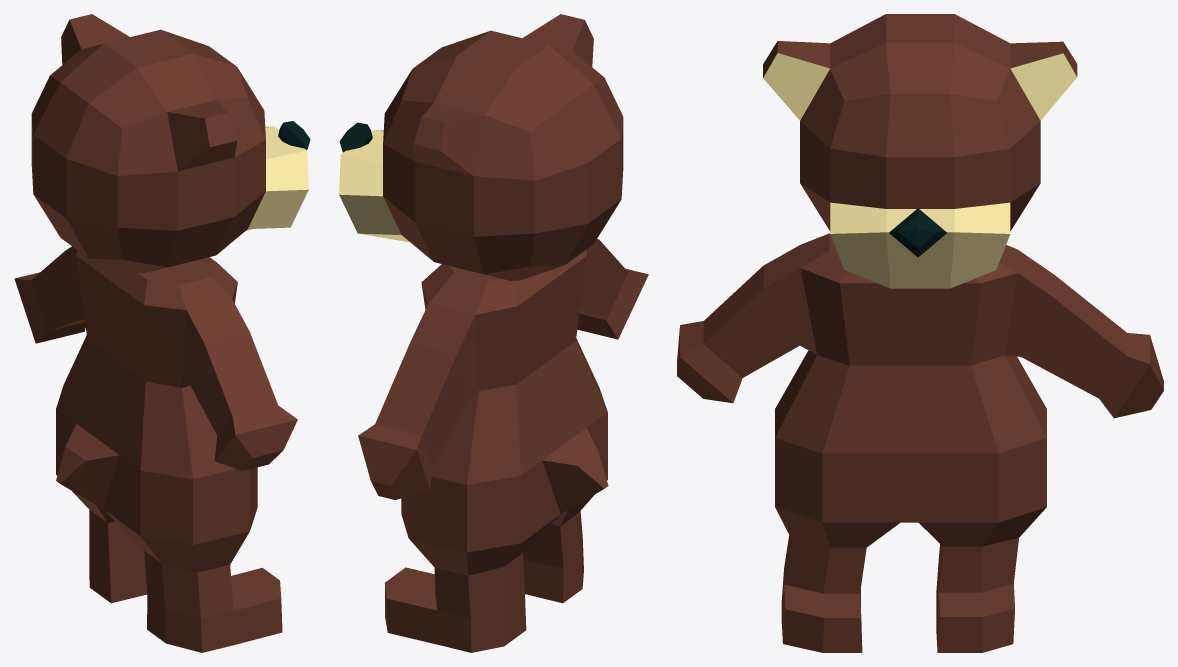
The model's file is teddybear-darkbrown.fbx.
3 renders of one model, left to right at view 1: azimuth 30°, elevation 25°; view 2: azimuth 150°, elevation 25°; view 3: azimuth 270°, elevation 25°, orthographic. The views are drawn at different scales.
Parts seen in each view (by area): view 1: teddy; view 2: teddy; view 3: teddy.
Boxes of the visible parts, left/top/right/bottom form: teddy: left=14, top=14, right=310, bottom=652; teddy: left=339, top=14, right=648, bottom=652; teddy: left=677, top=14, right=1163, bottom=652.
Bounding box in the file's own units: 166 × 342 × 259.
